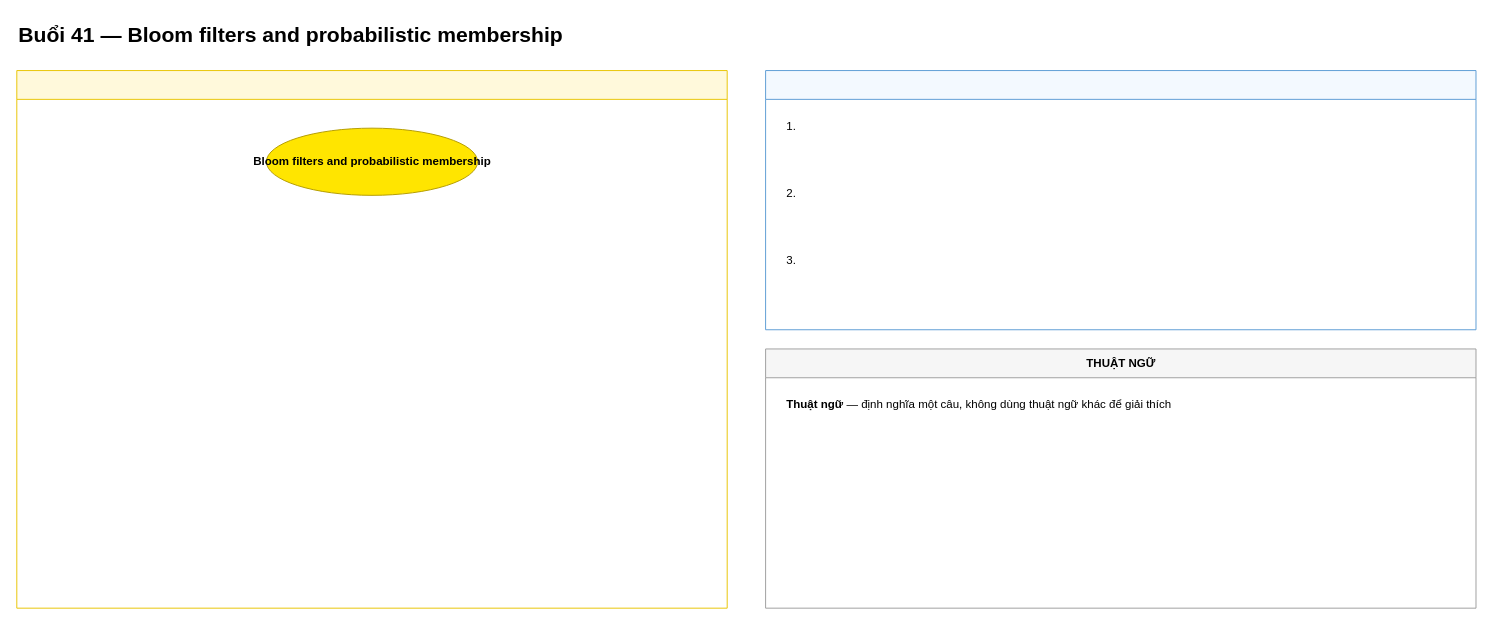
Some shapes in this 1493 by 625 pixel diagram are drawn without their labels. Each missing label, with the box of its shape:
KEY TAKEAWAY — ba điều phải nhớ: (765, 70, 1476, 330)
MINDMAP: (16, 70, 727, 608)
